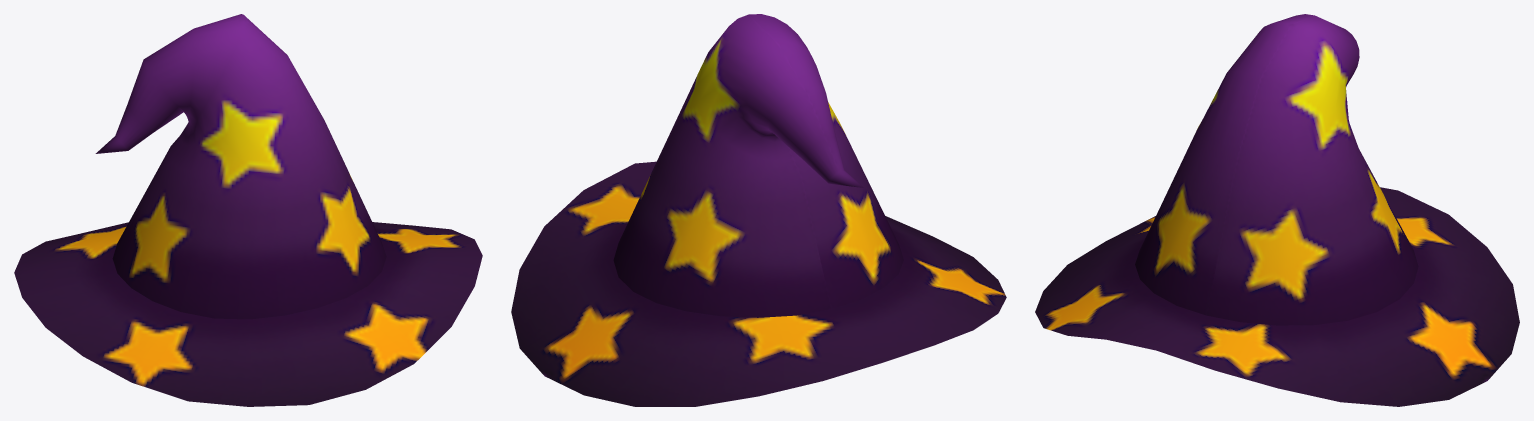
File: magic_cap.FBX
3 renders of one model, left to right at view 1: azimuth 30°, elevation 25°; view 2: azimuth 150°, elevation 25°; view 3: azimuth 270°, elevation 25°, orthographic. The views are drawn at different scales.
Parts seen in each view (by area): view 1: magic_cap001; view 2: magic_cap001; view 3: magic_cap001.
Boxes of the visible parts, x1,y1,x2,y2 form: magic_cap001: (14, 14, 482, 406); magic_cap001: (511, 14, 1006, 406); magic_cap001: (1035, 14, 1519, 406).
Bounding box in the file's own units: 142 × 99.59 × 142.
